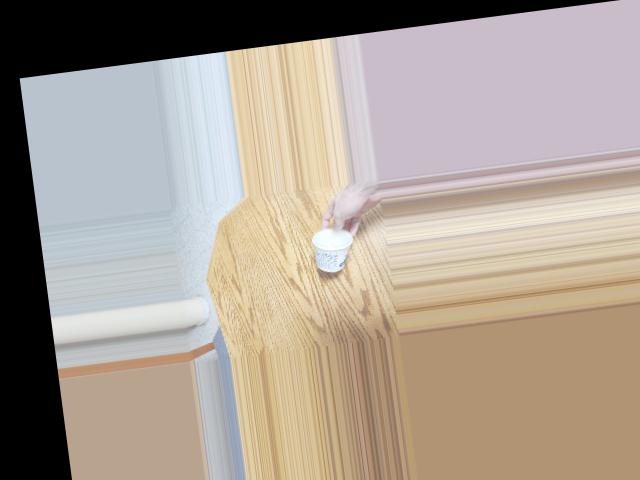cotage: (307, 224, 357, 272)
